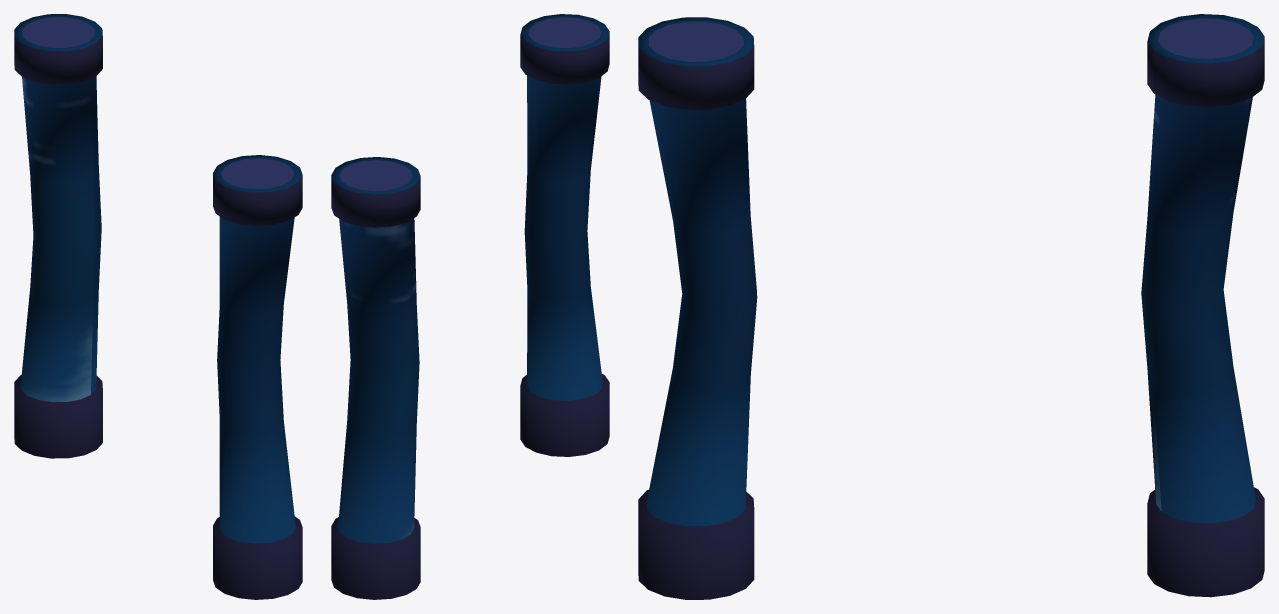
File: PilastraBalao.fbx
The picture shows the model from 3 angles, left to right: view 1: azimuth 30°, elevation 25°; view 2: azimuth 150°, elevation 25°; view 3: azimuth 270°, elevation 25°; orthographic projection. The views are drawn at different scales.
Parts seen in each view (by area): view 1: PilastraBalao; view 2: PilastraBalao; view 3: PilastraBalao.
Boxes of the visible parts, <box> form: PilastraBalao: <box>14,14,302,599</box>; PilastraBalao: <box>331,14,609,599</box>; PilastraBalao: <box>638,14,1264,599</box>.
Bounding box in the file's own units: 92.02 × 466 × 438.
